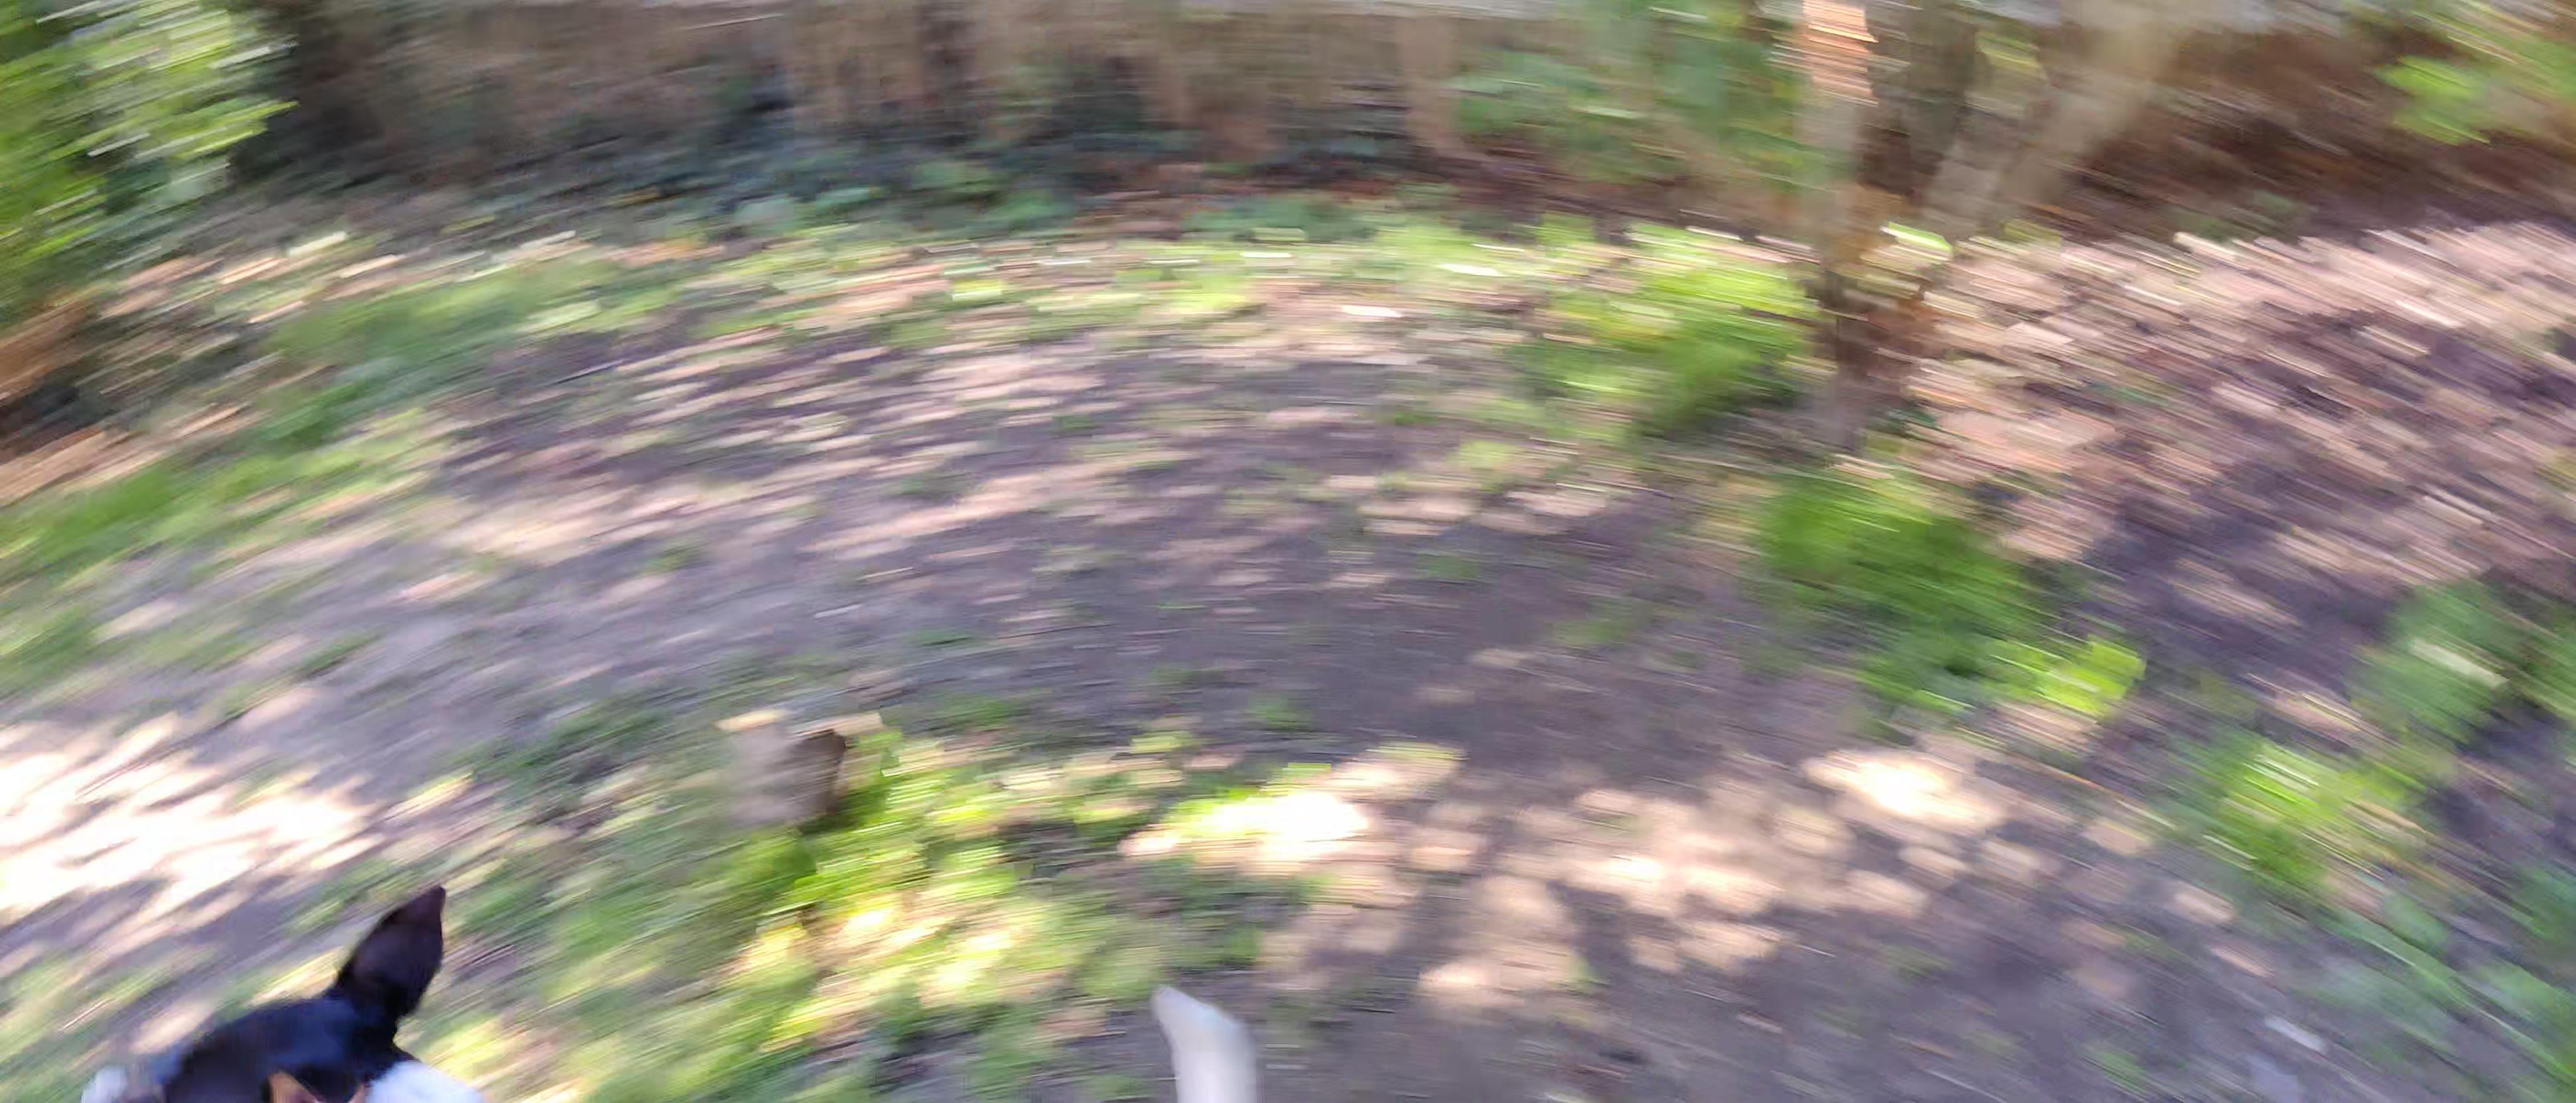Dog: (69, 878, 1299, 1103)
